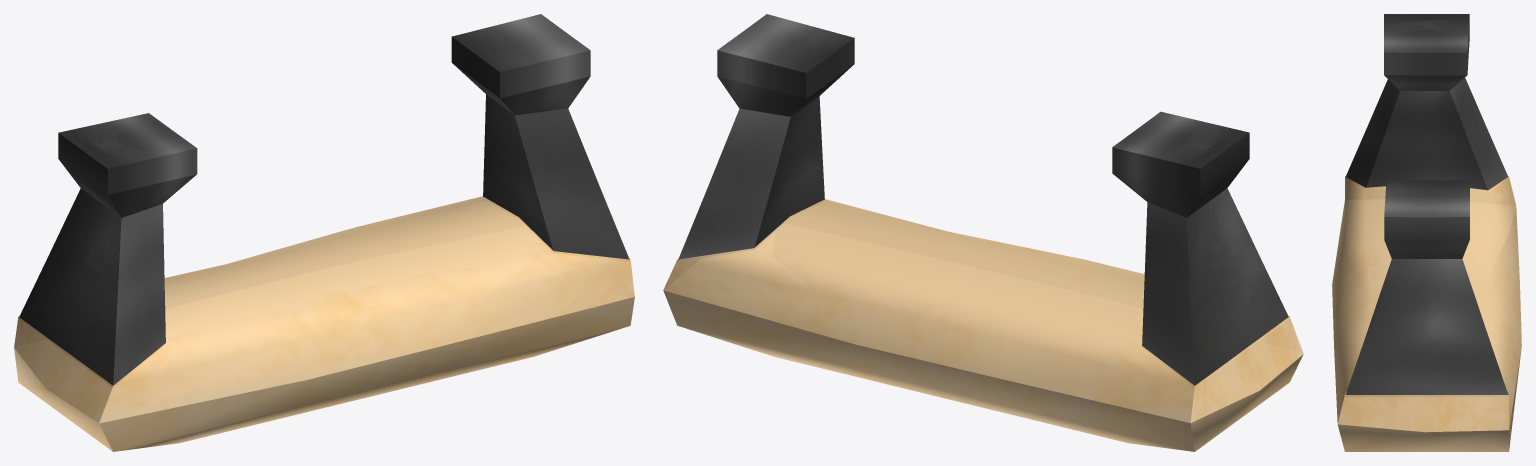
The model's file is LongLight.fbx.
3 renders of one model, left to right at view 1: azimuth 30°, elevation 25°; view 2: azimuth 150°, elevation 25°; view 3: azimuth 270°, elevation 25°, orthographic. The views are drawn at different scales.
Parts seen in each view (by area): view 1: Lights, Handles; view 2: Lights, Handles; view 3: Handles, Lights.
Part boxes in pixels (<box>): Lights: <box>14,196,634,451</box>; Handles: <box>19,14,629,385</box>; Lights: <box>663,199,1303,451</box>; Handles: <box>678,14,1288,385</box>; Handles: <box>1345,14,1508,394</box>; Lights: <box>1332,176,1521,451</box>.
Size of the model in its own units: 20.75 by 10.31 by 7.11.
Materials: 2 (2 with a texture image).
